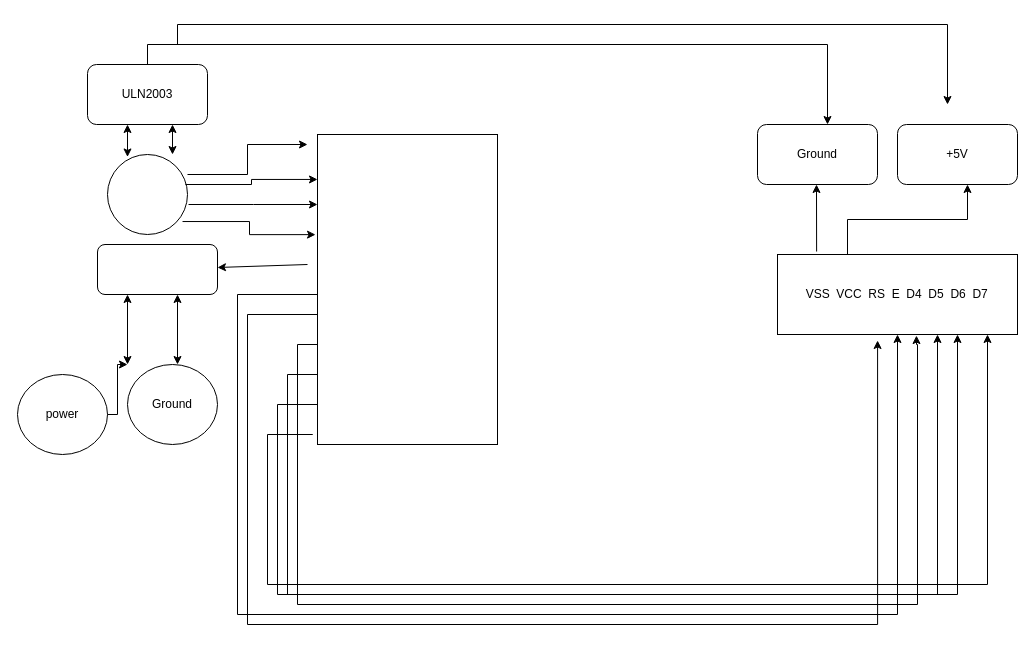
This 1035x650 diagram has some shape labels left out. Each missing label, with the box of its shape:
coil 1 coil 2 coil 3 coil 4: (106, 154, 188, 234)
IR sensor (out pin): (96, 244, 218, 294)
pF0 pF1 pF2 pF3 pF4 pA2 pA3 pB2 pB3 pB4 pB5: (316, 134, 498, 444)
